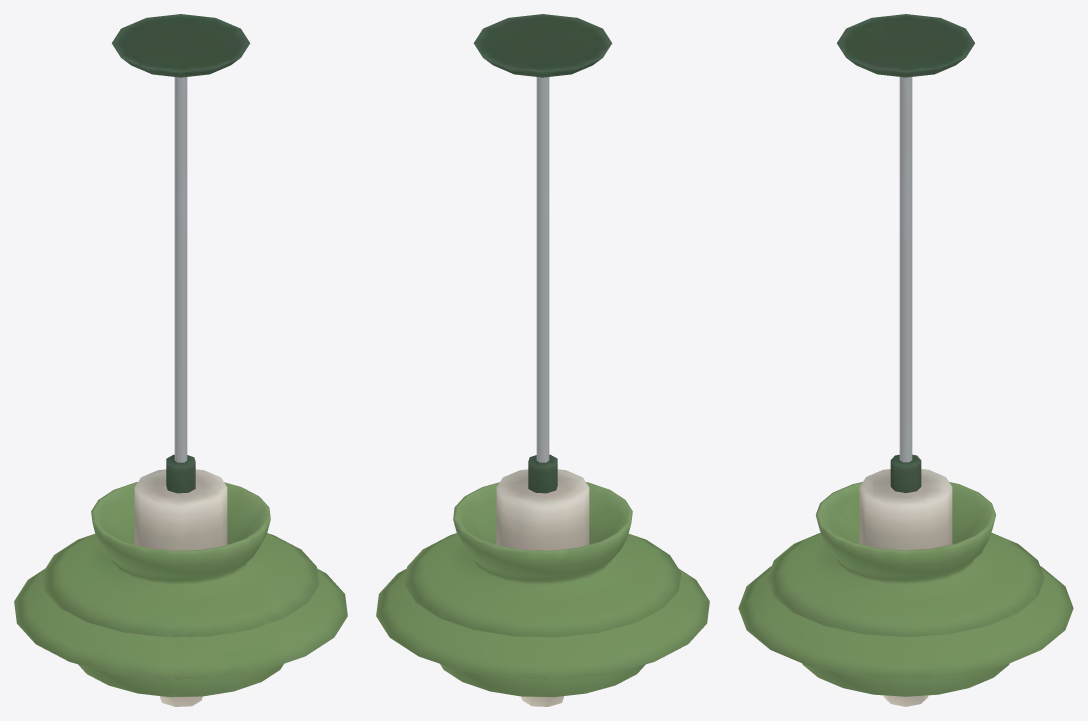
3 renders of one model, left to right at view 1: azimuth 30°, elevation 25°; view 2: azimuth 150°, elevation 25°; view 3: azimuth 270°, elevation 25°, orthographic.
Size of the model in its own units: 7.24 by 15.59 by 7.24.
Materials: 1 (1 with a texture image).
